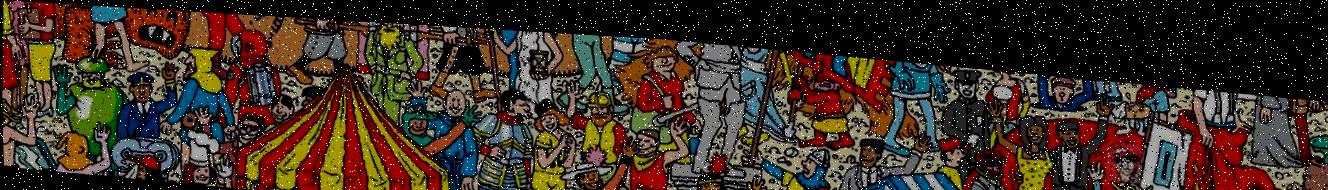waldo: (1105, 127, 1142, 170)
